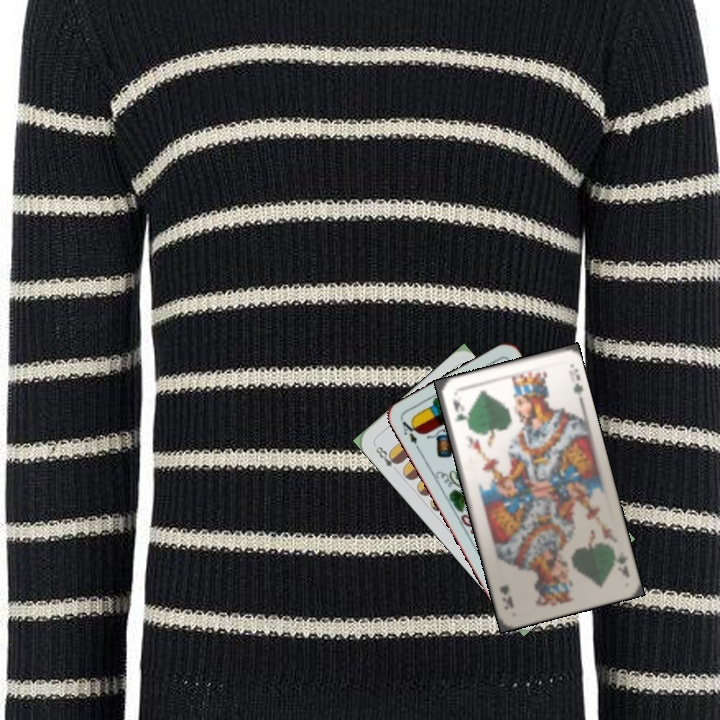E8: (370, 441, 402, 475)
EA: (398, 415, 423, 453)
GK: (607, 544, 632, 580), (449, 394, 468, 424)
